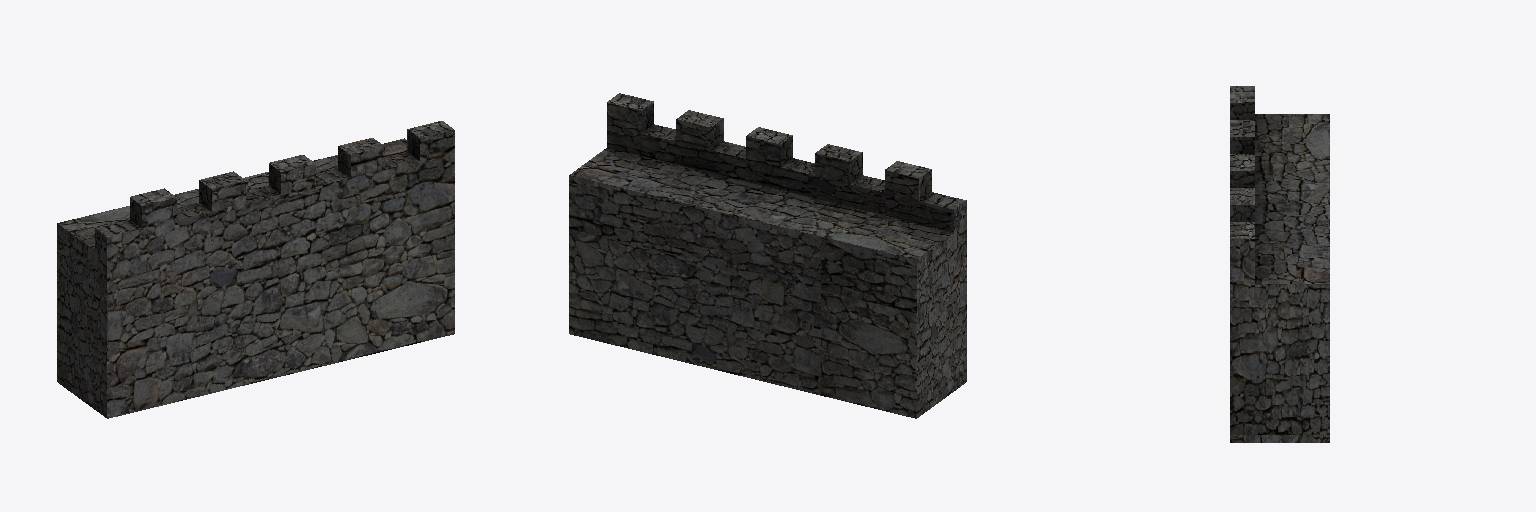
3 renders of one model, left to right at view 1: azimuth 30°, elevation 25°; view 2: azimuth 150°, elevation 25°; view 3: azimuth 270°, elevation 25°, orthographic.
Parts seen in each view (by area): view 1: Cube; view 2: Cube; view 3: Cube.
Boxes of the visible parts, x1=… form: Cube: x1=57, y1=121, x2=454, y2=418; Cube: x1=569, y1=93, x2=966, y2=418; Cube: x1=1230, y1=86, x2=1329, y2=442.
Size of the model in its own units: 16 by 9 by 4.
1 materials, 1 textured.